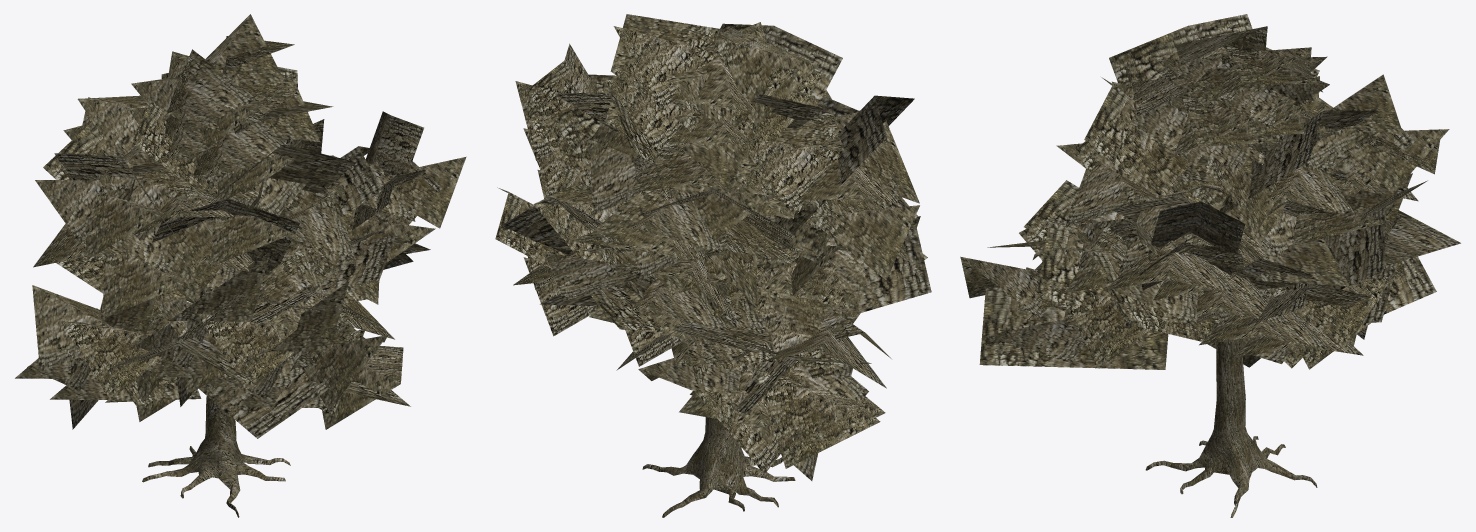
File: oak_a_fall.dae
The picture shows the model from 3 angles, left to right: view 1: azimuth 30°, elevation 25°; view 2: azimuth 150°, elevation 25°; view 3: azimuth 270°, elevation 25°; orthographic projection. The views are drawn at different scales.
Visible parts, largest first — view 1: oak_a_fall; view 2: oak_a_fall; view 3: oak_a_fall.
Part boxes in pixels (x1,y1,x2,y2): oak_a_fall: [15, 14, 466, 517]; oak_a_fall: [495, 14, 931, 517]; oak_a_fall: [960, 14, 1460, 517].
Bounding box in the file's own units: 1321 × 1381 × 1378.
